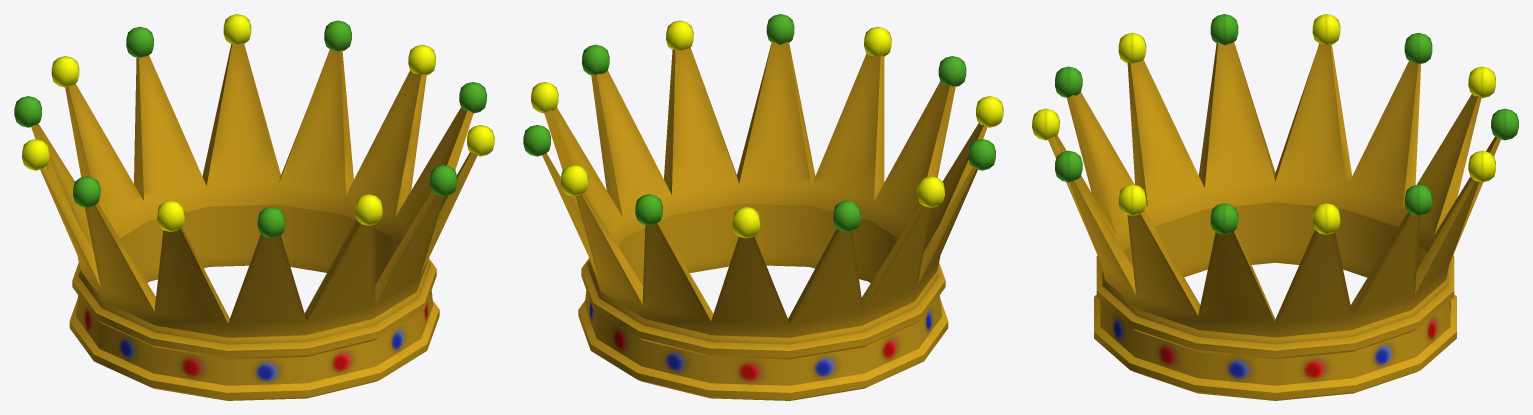
The model's file is sceneCrown.gltf.
The picture shows the model from 3 angles, left to right: view 1: azimuth 30°, elevation 25°; view 2: azimuth 150°, elevation 25°; view 3: azimuth 270°, elevation 25°; orthographic projection.
Parts seen in each view (by area): view 1: pSphere21; view 2: pSphere21; view 3: pSphere21.
Boxes of the visible parts, x1,y1,x2,y2 form: pSphere21: [14, 14, 494, 400]; pSphere21: [523, 14, 1003, 400]; pSphere21: [1032, 14, 1518, 400].
Size of the model in its own units: 41.75 by 20.92 by 42.37.
Materials: 1 (1 with a texture image).
